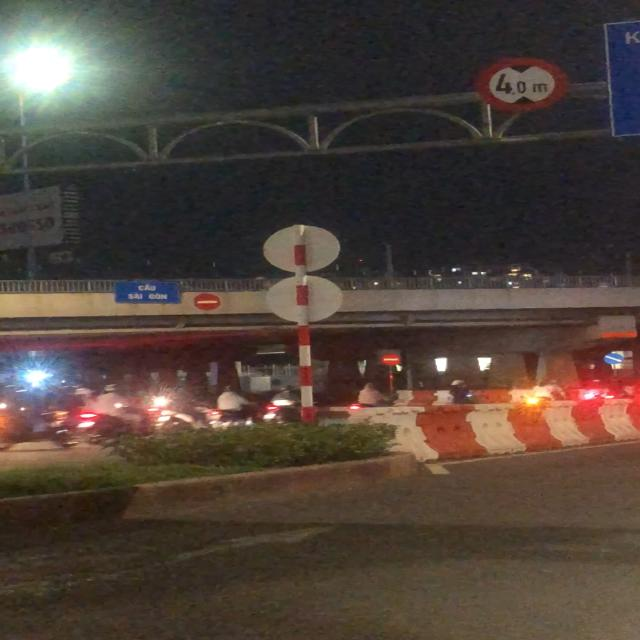Bien bao cam di nguoc chieu: (191, 292, 224, 311), (380, 352, 402, 366)
Bien bao huong phai di vong chuong ngai vat: (603, 352, 625, 365)
